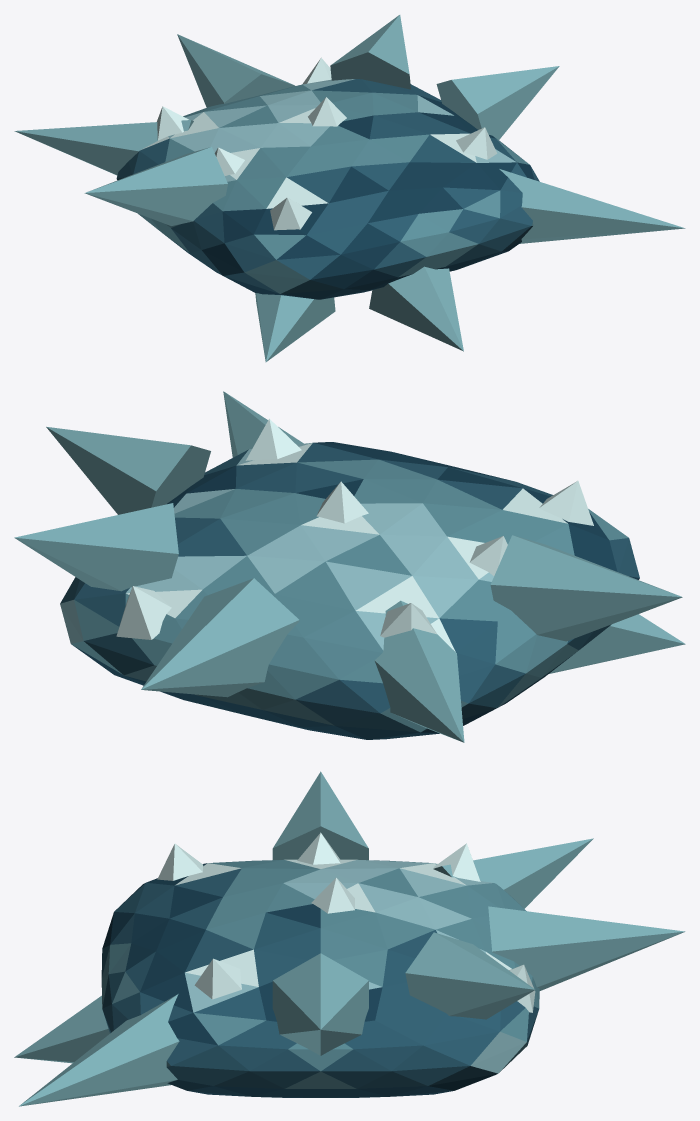
The model's file is newsha-167.glb.
3 views of the same model, one above another, from view 1: azimuth 30°, elevation 25°; view 2: azimuth 150°, elevation 25°; view 3: azimuth 270°, elevation 25° (orthographic). The views are drawn at different scales.
Visible parts, largest first — view 1: newsha-167; view 2: newsha-167; view 3: newsha-167.
Boxes of the visible parts, left/top/right/bottom form: newsha-167: left=14, top=15, right=685, bottom=362; newsha-167: left=14, top=391, right=685, bottom=742; newsha-167: left=14, top=771, right=685, bottom=1106.
Bounding box in the file's own units: 1.83 × 0.6164 × 1.92.
